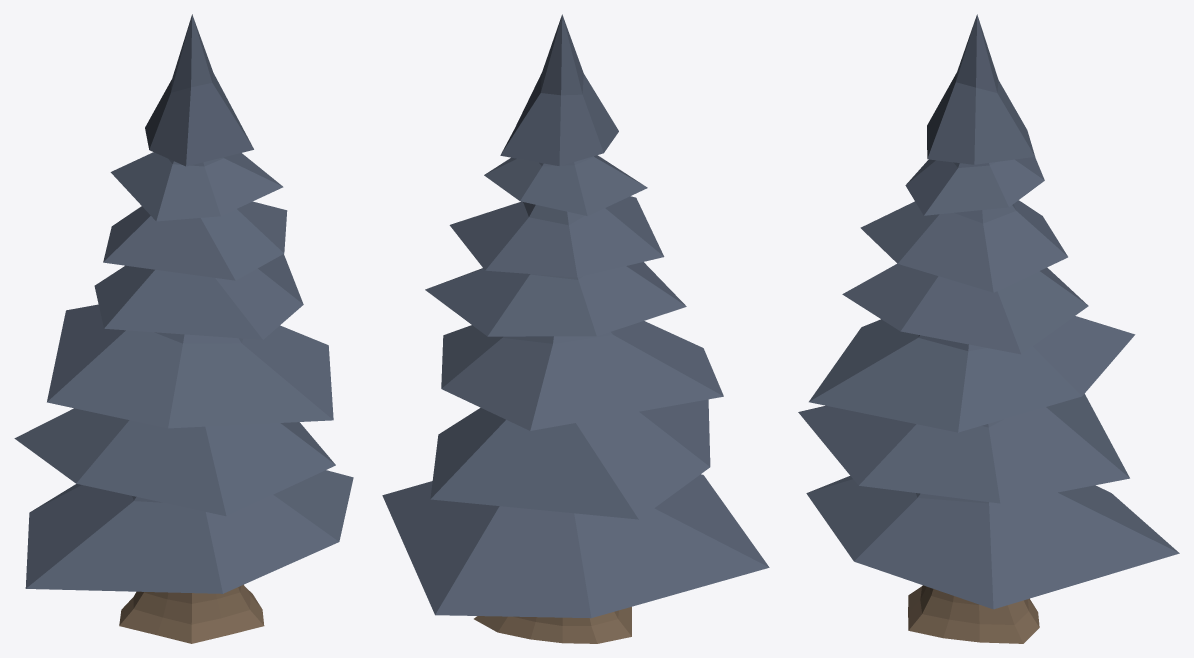
Rendered from P_fir_04_LD.fbx.
The picture shows the model from 3 angles, left to right: view 1: azimuth 30°, elevation 25°; view 2: azimuth 150°, elevation 25°; view 3: azimuth 270°, elevation 25°; orthographic projection.
Visible parts, largest first — view 1: P_fir_04; view 2: P_fir_04; view 3: P_fir_04.
Boxes of the visible parts, x1=… form: P_fir_04: x1=14, y1=14, x2=353, y2=643; P_fir_04: x1=382, y1=14, x2=769, y2=643; P_fir_04: x1=798, y1=14, x2=1179, y2=643.
Size of the model in its own units: 679 by 1089 by 630.
